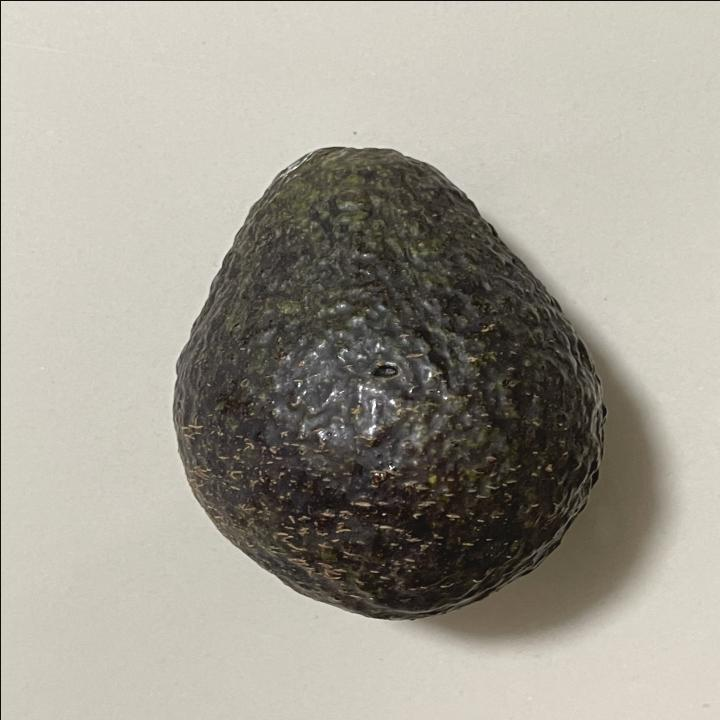Level1: (153, 131, 622, 630)
